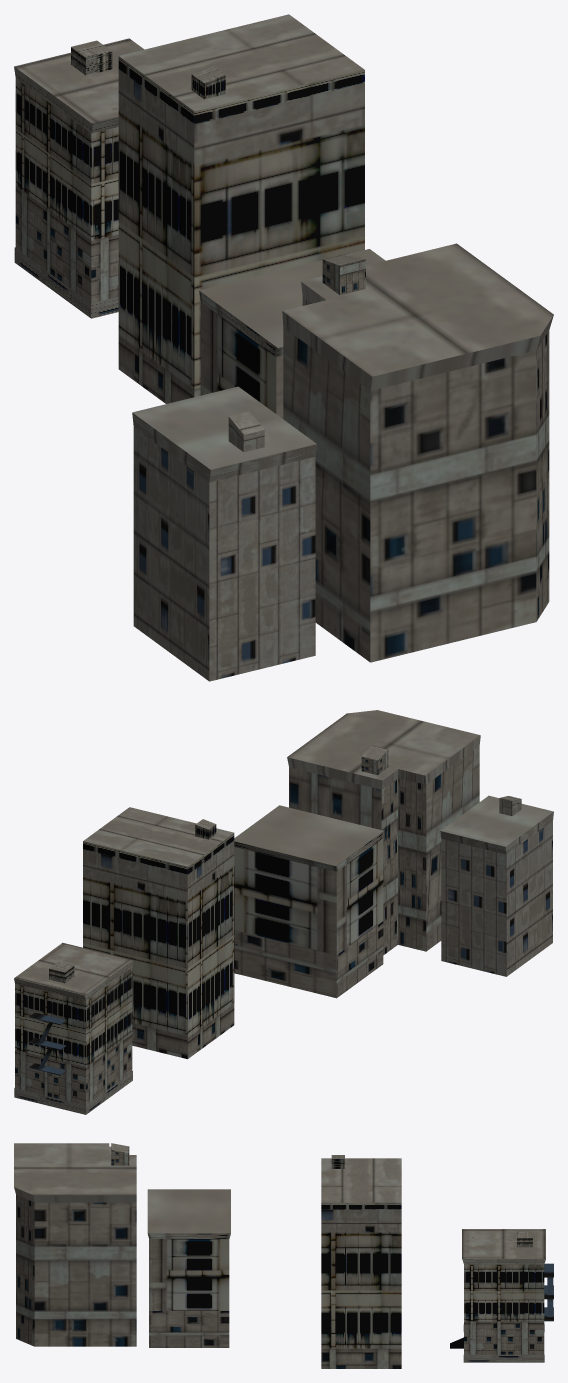
File: Buildings04_Clean.fbx
3 renders of one model, top to bottom at view 1: azimuth 30°, elevation 25°; view 2: azimuth 150°, elevation 25°; view 3: azimuth 270°, elevation 25°, orthographic. The views are drawn at different scales.
Parts seen in each view (by area): view 1: urb_bui_4_lod2, urb_bui_2_lod2, urb_bui_5_lod2, urb_bui_1_lod2, urb_bui_3_lod2; view 2: urb_bui_2_lod2, urb_bui_4_lod2, urb_bui_3_lod2, urb_bui_5_lod2, urb_bui_1_lod2; view 3: urb_bui_4_lod2, urb_bui_2_lod2, urb_bui_3_lod2, urb_bui_1_lod2.
Part boxes in pixels (<box>): urb_bui_4_lod2: <box>282,243,553,662</box>; urb_bui_2_lod2: <box>118,14,364,403</box>; urb_bui_5_lod2: <box>132,386,316,681</box>; urb_bui_1_lod2: <box>14,38,144,318</box>; urb_bui_3_lod2: <box>199,249,385,418</box>; urb_bui_2_lod2: <box>83,807,234,1059</box>; urb_bui_4_lod2: <box>287,710,480,955</box>; urb_bui_3_lod2: <box>234,805,383,998</box>; urb_bui_5_lod2: <box>440,795,553,976</box>; urb_bui_1_lod2: <box>14,942,133,1114</box>; urb_bui_4_lod2: <box>14,1143,136,1346</box>; urb_bui_2_lod2: <box>321,1155,401,1368</box>; urb_bui_3_lod2: <box>147,1189,230,1347</box>; urb_bui_1_lod2: <box>450,1229,553,1362</box>.
Size of the model in its own units: 3.22 by 2.42 by 6.72.
1 material, 1 textured.
